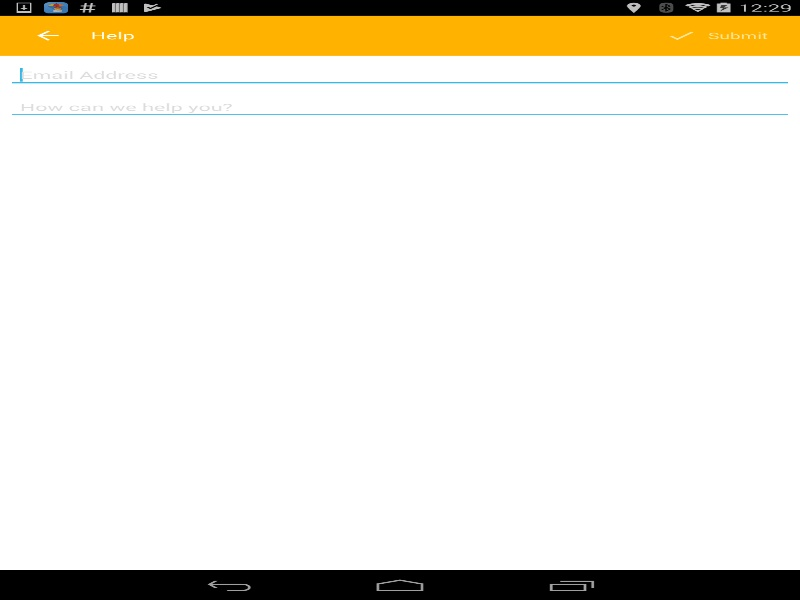Button: (10, 15, 85, 55)
Input: (6, 61, 793, 87), (6, 94, 793, 120)
